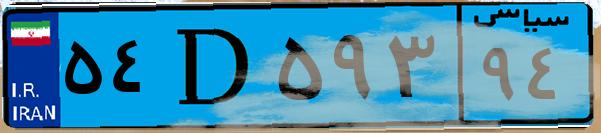3: (385, 28, 445, 110)
4: (525, 38, 570, 115), (110, 28, 158, 98)
5: (270, 28, 330, 110), (57, 26, 110, 100)
9: (330, 28, 385, 110), (475, 38, 525, 113)
D: (158, 12, 270, 120)
